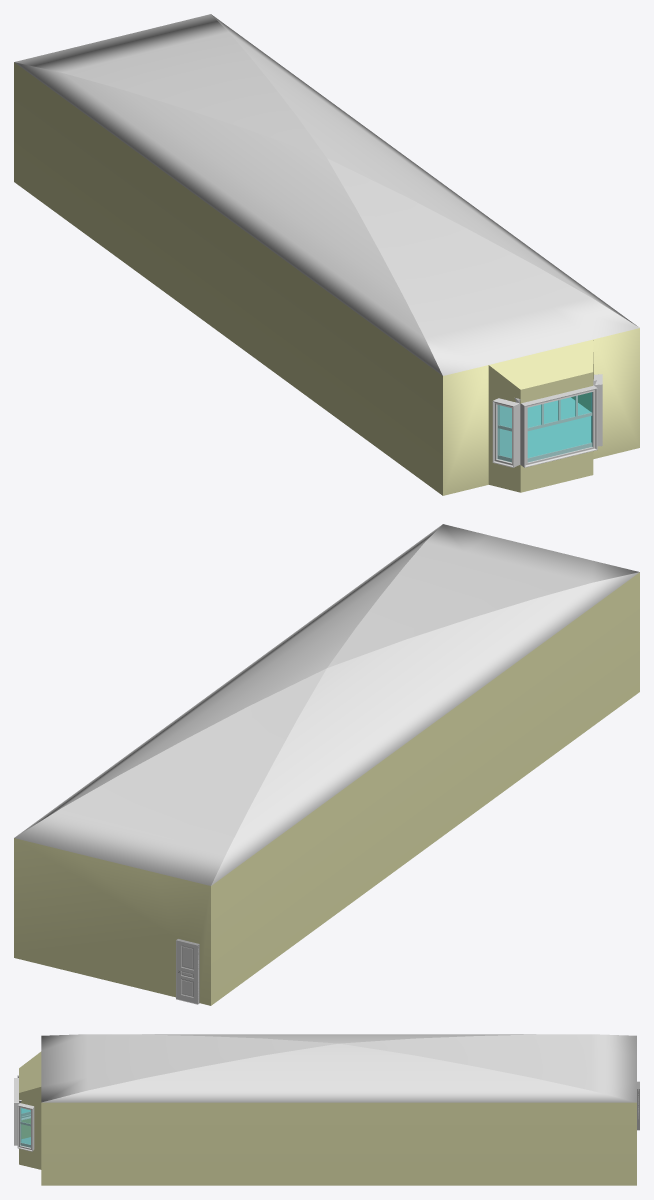
The model's file is KitchenRoom_mar25.fbx.
3 views of the same model, one above another, from view 1: azimuth 30°, elevation 25°; view 2: azimuth 150°, elevation 25°; view 3: azimuth 270°, elevation 25° (orthographic). The views are drawn at different scales.
Parts seen in each view (by area): view 1: polySurface453, polySurface475; view 2: polySurface453, pCube64; view 3: polySurface453, polySurface475.
Part boxes in pixels (x1,y1,x2,y2): polySurface453: (14, 14, 639, 495); polySurface475: (492, 374, 602, 467); polySurface453: (14, 524, 639, 1005); pCube64: (176, 940, 198, 1003); polySurface453: (19, 1034, 639, 1185); polySurface475: (14, 1075, 34, 1151).
Bounding box in the file's own units: 6.91 × 5.25 × 27.37.
